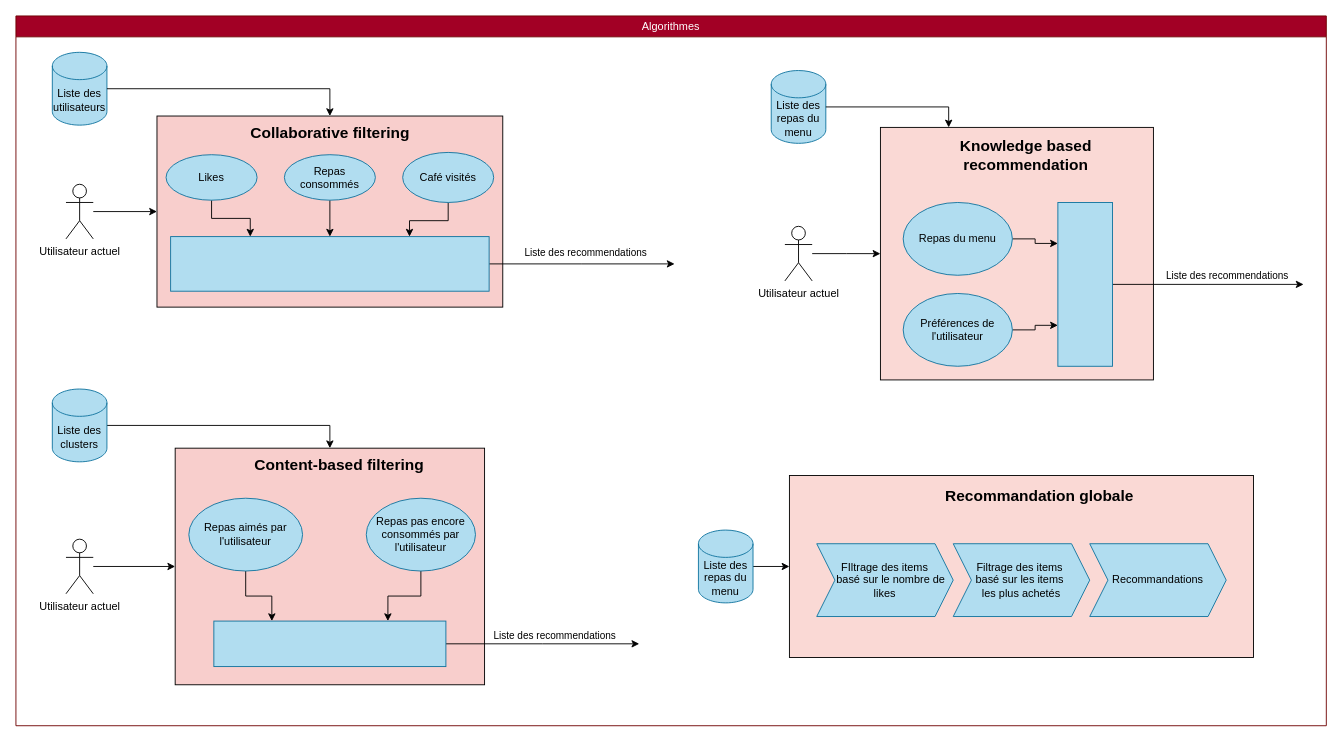
The diagram is 1342 pixels wide and 742 high, and some of its shapes have lost their labels. The box of each missing label's shape, as (x1, y1, x2, y2) in pixels:
FIltrage: (1057, 202, 1112, 366)
Mesure de similarité: (213, 620, 446, 667)
SImilarité entre l'utilisateur et les autres utilisateurs: (170, 236, 489, 291)
